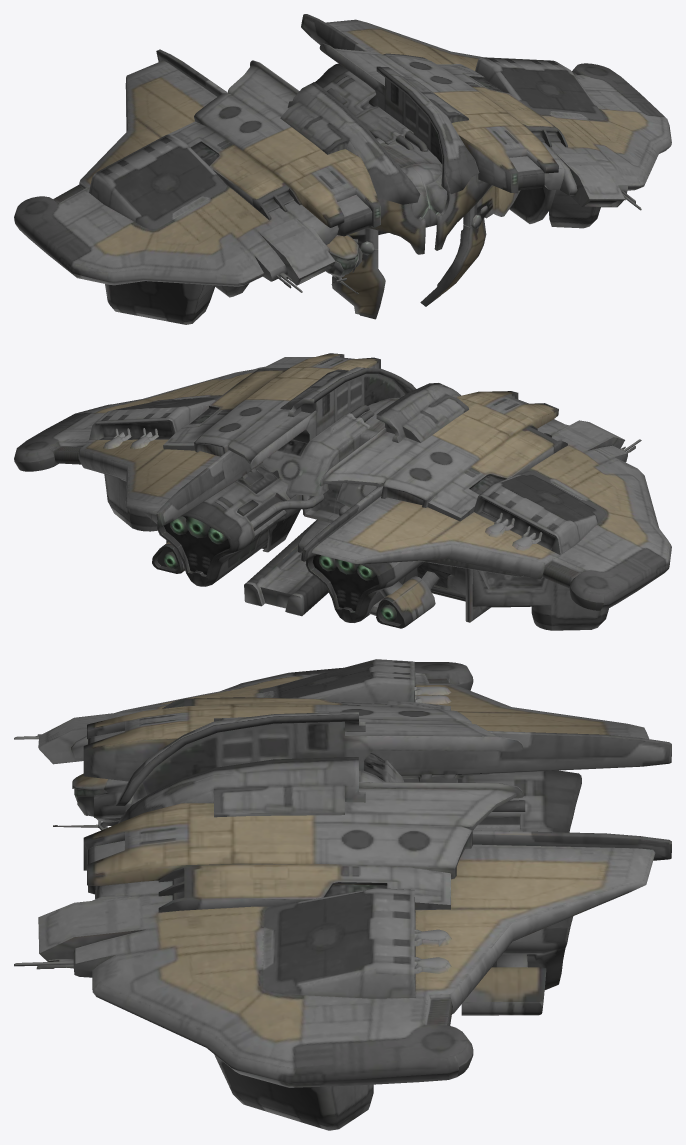
Rendered from 11377_lite.glb.
The picture shows the model from 3 angles, top to bottom: view 1: azimuth 30°, elevation 25°; view 2: azimuth 150°, elevation 25°; view 3: azimuth 270°, elevation 25°; orthographic projection. The views are drawn at different scales.
Visible parts, largest first — view 1: ship; view 2: ship; view 3: ship.
Part boxes in pixels (x1,y1,x2,y2): ship: (14, 14, 671, 324); ship: (14, 353, 671, 630); ship: (14, 659, 671, 1130).
Size of the model in its own units: 1.24 by 0.3938 by 0.8641.
Materials: 1 (1 with a texture image).
